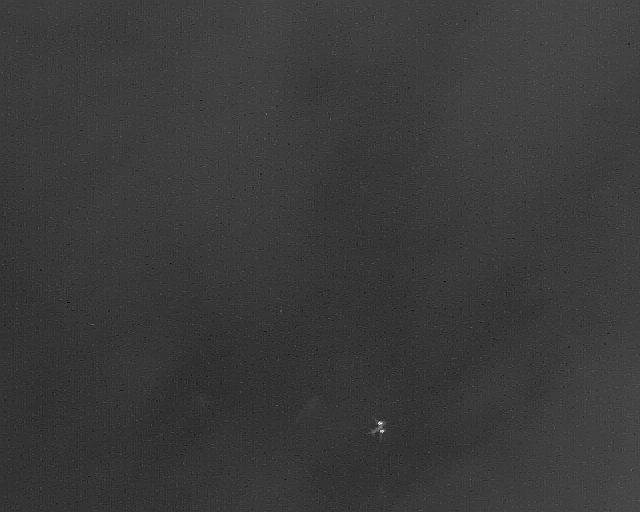Target: (368, 420, 389, 436)
